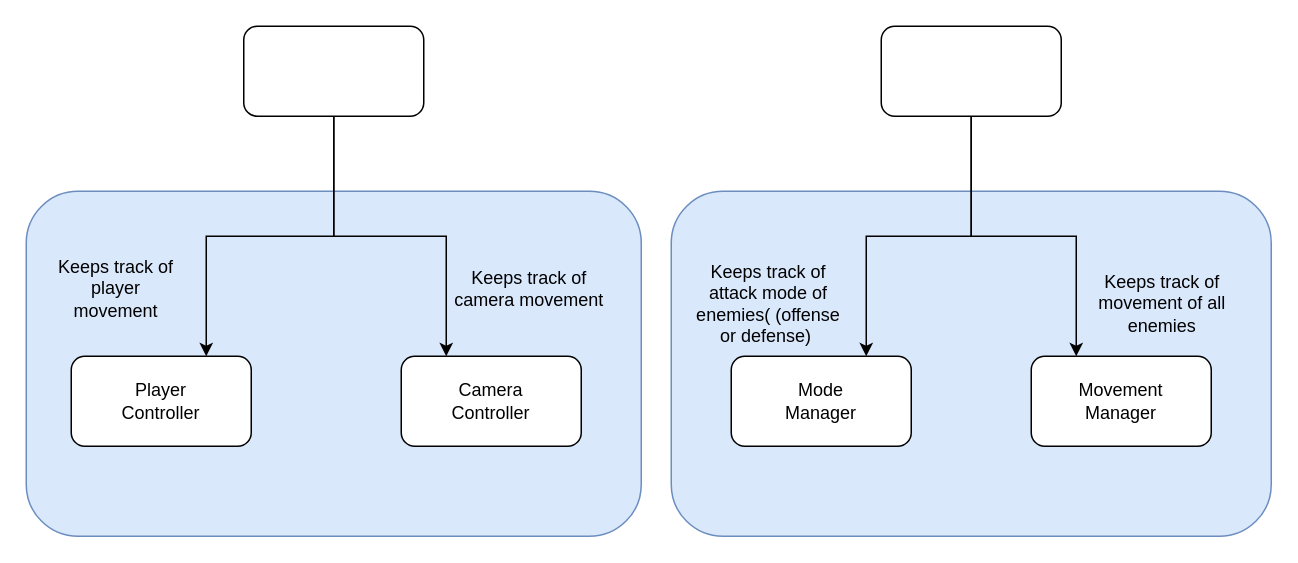
Image size: 1298x563. Some labels were removed from this diagram. The box of each missing label's shape, as (x1, y1, x2, y2) in pixels:
AI Manager: (880, 25, 1061, 116)
Input Manager: (242, 25, 424, 116)
